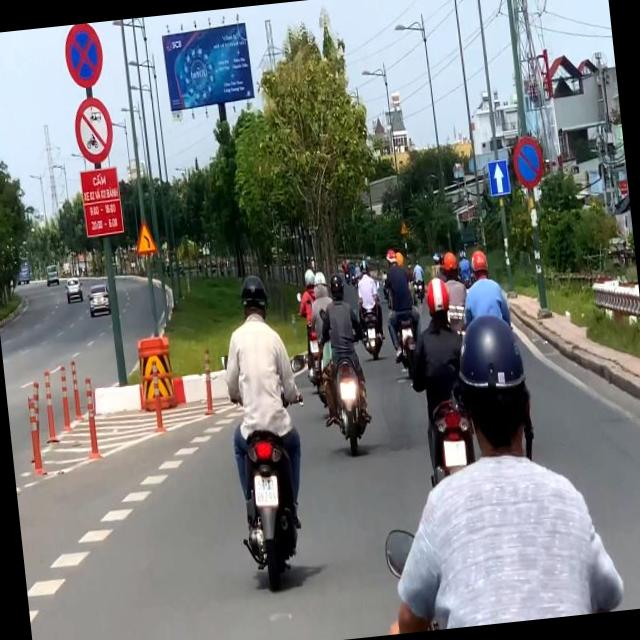I-407a: (488, 161, 510, 195)
P-104: (72, 95, 115, 164)
P-130: (60, 21, 104, 90)
P-131a: (512, 135, 545, 188)
